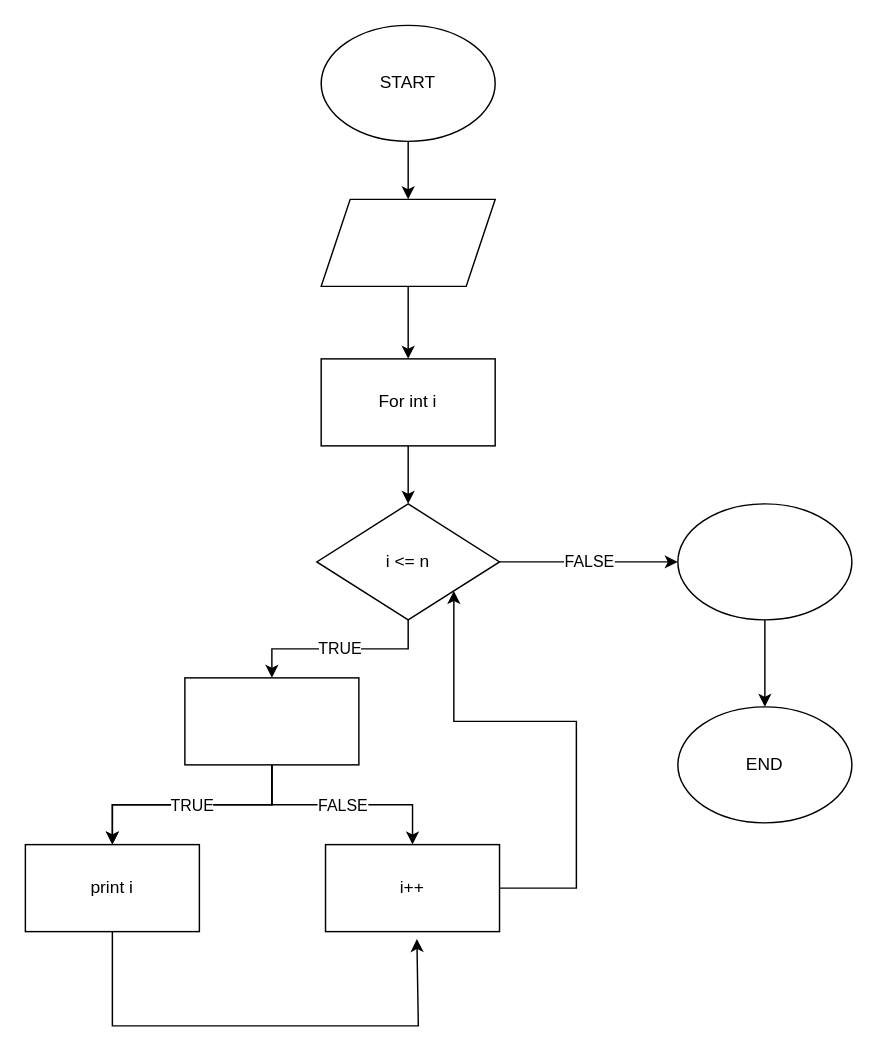
Image size: 877x1063. Some labels were removed from this diagram. Here are the shapes that lost their labels. From the top down, the box of each, then its label:
(320, 198, 495, 286): Nhập số n
(676, 502, 852, 620): END vòng lặp
(183, 676, 359, 765): n % i == 0
